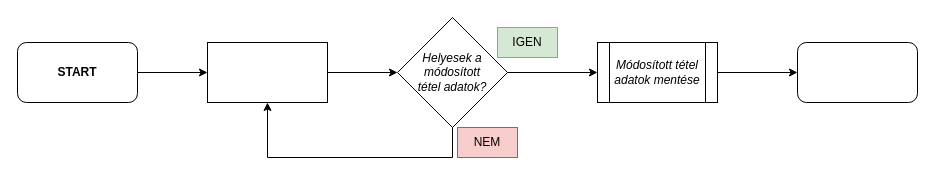
Image size: 935x183. Some labels were removed from this diagram. Each missing label, with the centre of its shape:
"STOP" goes at [857,72].
"Tétel adatok módosítása" goes at [267,72].
